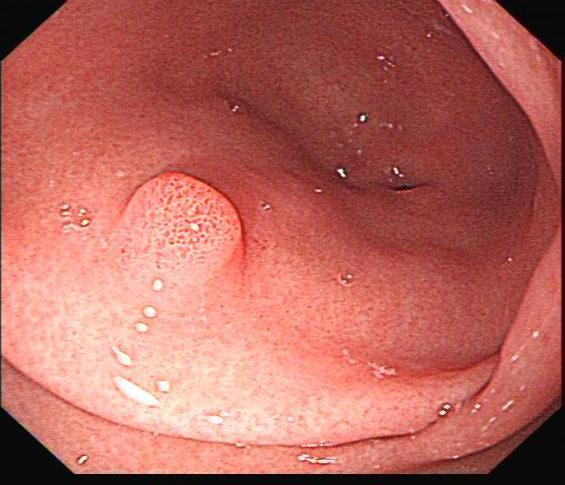Polyp: (118, 166, 252, 287)
